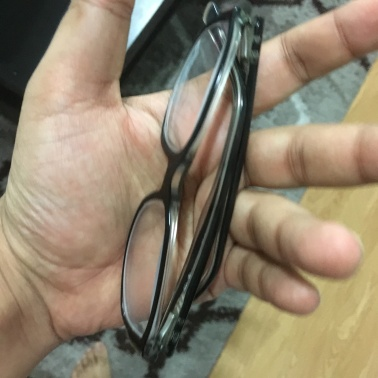glasses: (127, 13, 246, 348)
